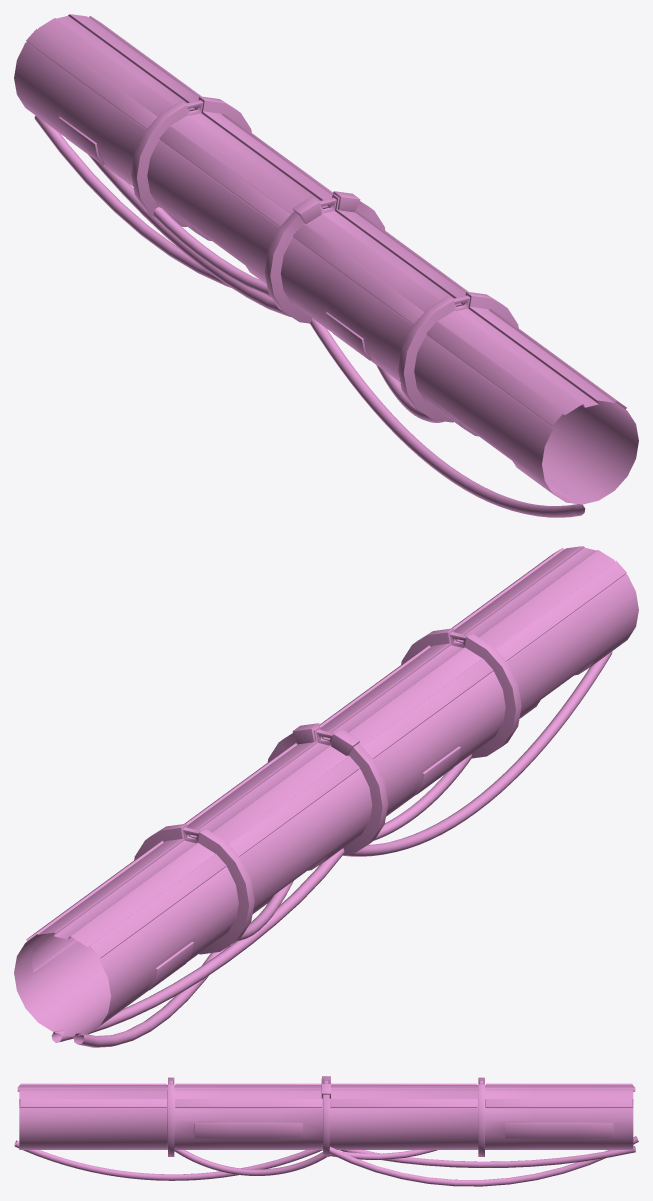
Rendered from Tuyau.fbx.
The picture shows the model from 3 angles, top to bottom: view 1: azimuth 30°, elevation 25°; view 2: azimuth 150°, elevation 25°; view 3: azimuth 270°, elevation 25°; orthographic projection. The views are drawn at different scales.
Parts seen in each view (by area): view 1: Tuyau_Lp001; view 2: Tuyau_Lp001; view 3: Tuyau_Lp001.
Part boxes in pixels (x1,y1,x2,y2): Tuyau_Lp001: (14, 14, 638, 517); Tuyau_Lp001: (14, 546, 638, 1047); Tuyau_Lp001: (14, 1076, 638, 1186).
Size of the model in its own units: 26.84 by 38.74 by 211.
